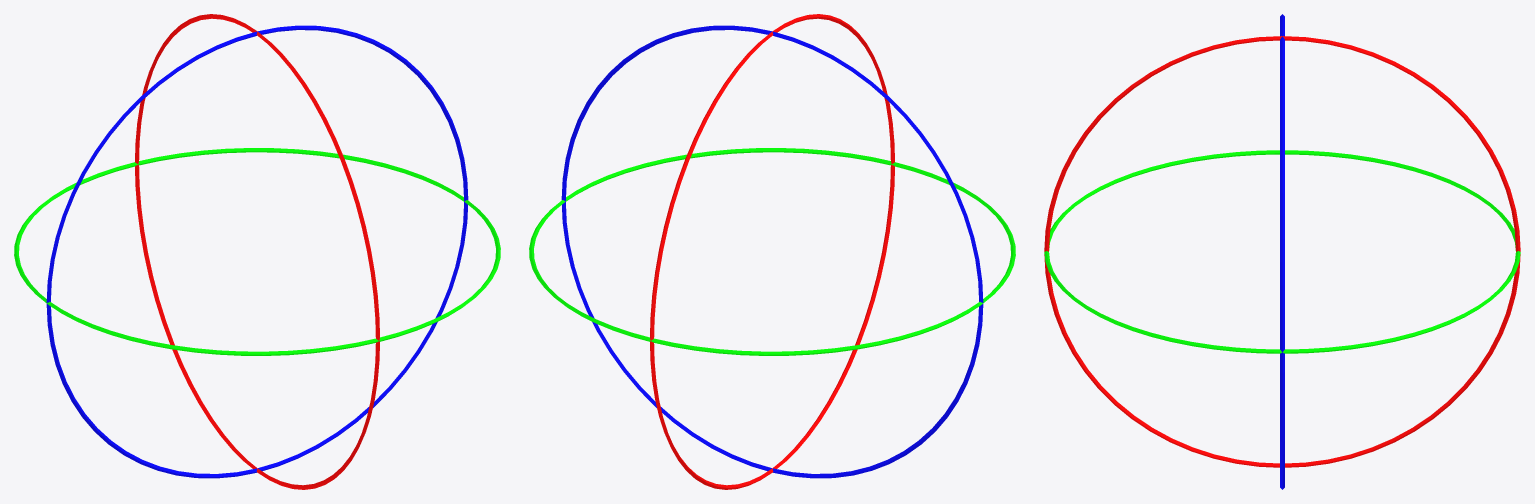
Rendered from rotate.glb.
3 renders of one model, left to right at view 1: azimuth 30°, elevation 25°; view 2: azimuth 150°, elevation 25°; view 3: azimuth 270°, elevation 25°, orthographic. The views are drawn at different scales.
Parts seen in each view (by area): view 1: Torus, Torus.001, Torus.002; view 2: Torus, Torus.001, Torus.002; view 3: Torus.001, Torus.002, Torus.
Boxes of the visible parts, x1,y1,x2,y2 form: Torus: [46, 25, 468, 478]; Torus.001: [135, 14, 379, 489]; Torus.002: [14, 148, 500, 355]; Torus: [561, 25, 983, 478]; Torus.001: [650, 14, 894, 489]; Torus.002: [529, 148, 1015, 355]; Torus.001: [1044, 36, 1520, 467]; Torus.002: [1044, 150, 1520, 353]; Torus: [1280, 14, 1284, 489].
Bounding box in the file's own units: 2 × 2 × 2.
